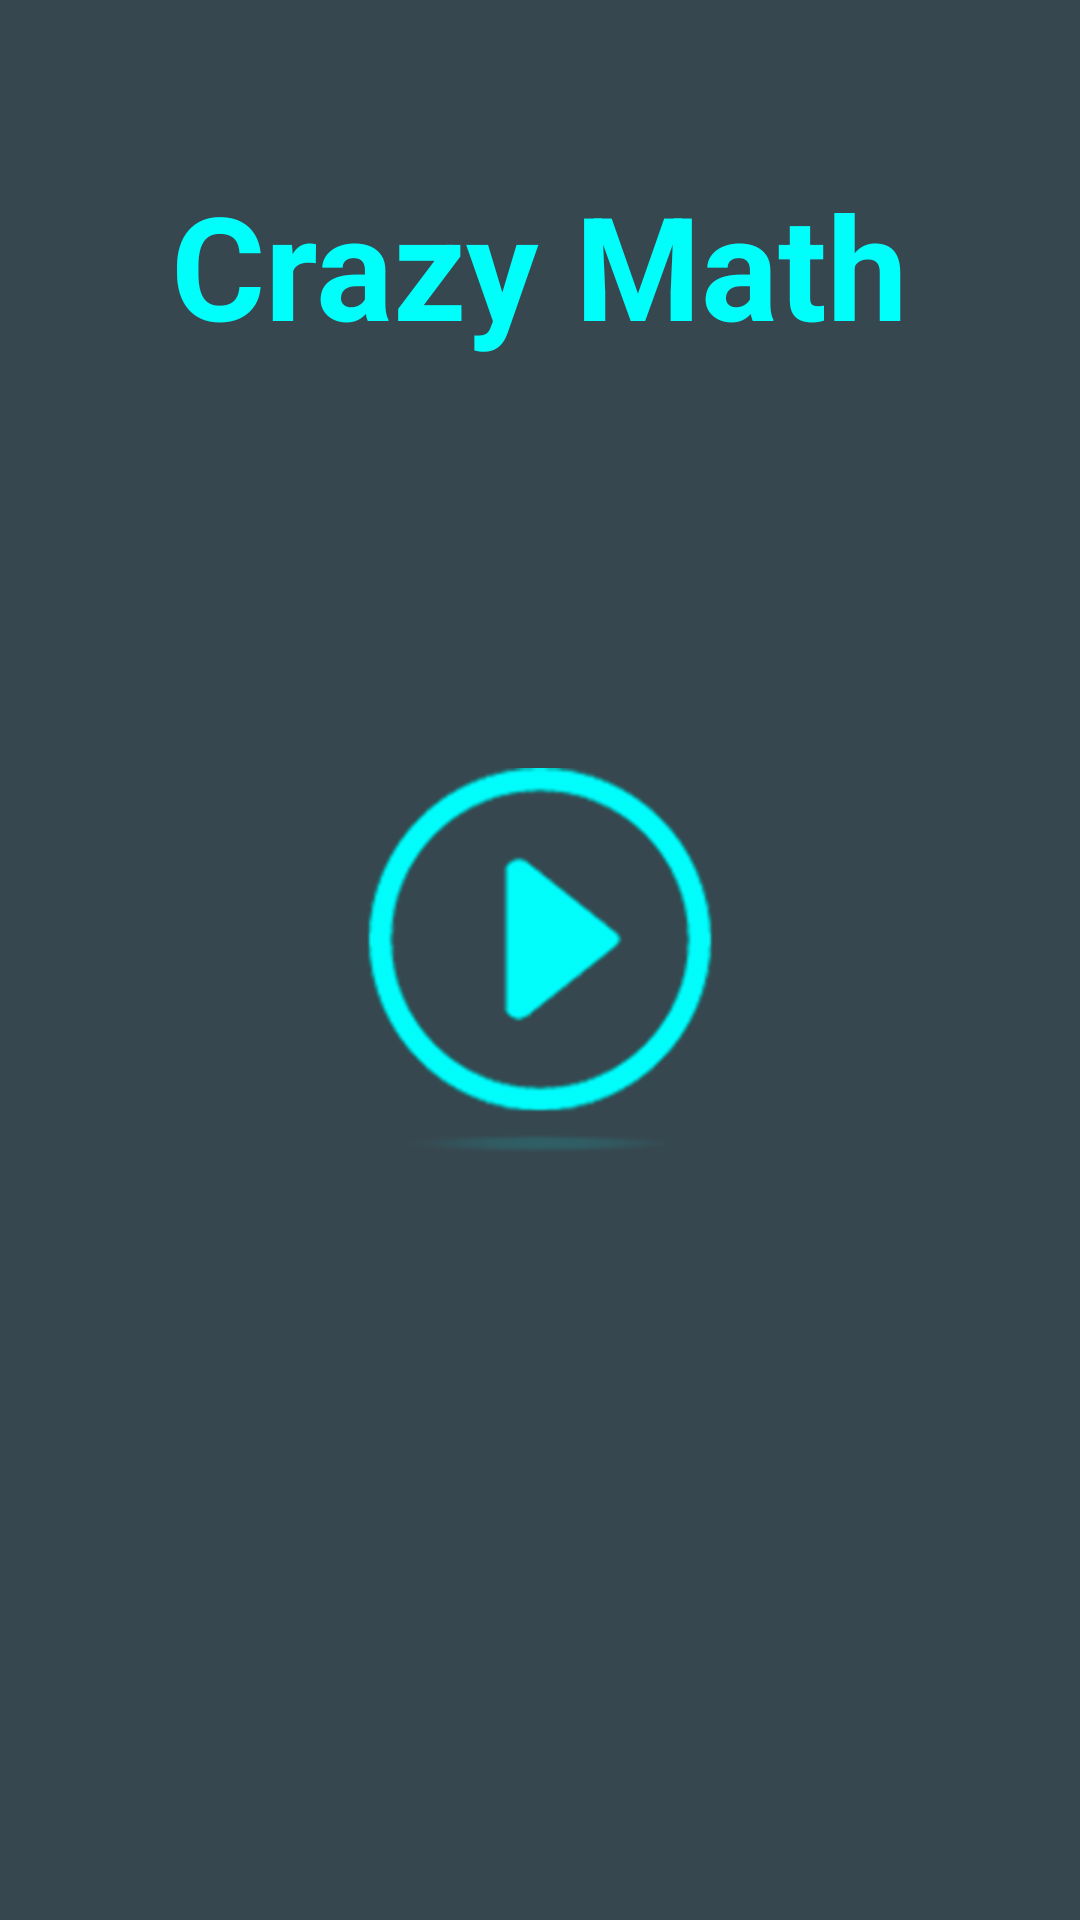

Where icons sit on this 1080px×1920px app screen, as [x1=x1, y1=y1, x2=x2, y2=y2]:
playbutton: [x1=368, y1=768, x2=712, y2=1111]
